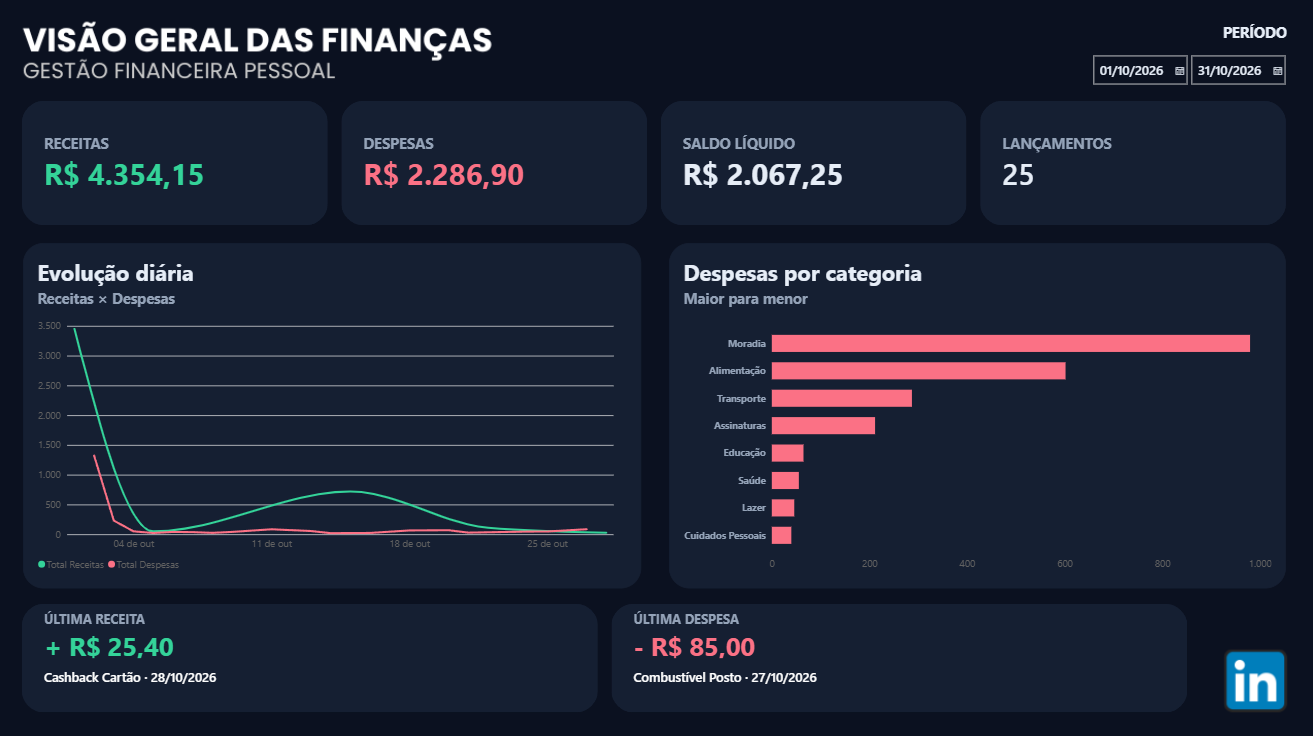

The page's visual inventory and layout, read from the dashboard file:
{"tool":"powerbi","page":{"name":"Visão Geral","canvas":[1920,1080],"ordinal":0},"visuals":[{"type":"cardVisual","fields":{"Data":["_Medidas.Total Receitas","_Medidas.Total Despesas","_Medidas.Saldo","_Medidas.Quantidade Lancamentos"]},"box":[36.7,150,1845,181.7],"z":0},{"type":"slicer","title":"PERÍODO","fields":{"Values":["dCalendario.Date"]},"box":[1591.7,35,290,100],"z":1000},{"type":"lineChart","title":"Evolução diária","fields":{"Category":["dCalendario.Date.Variation.Hierarquia de datas.Ano"],"Y":["_Medidas.Total Receitas","_Medidas.Total Despesas"]},"box":[38,358,902,504],"z":2000},{"type":"actionButton","box":[1790.8,951.5,90.8,90],"z":3000},{"type":"clusteredBarChart","title":"Despesas por categoria","fields":{"Category":["extrato_financeiro.Categoria"],"Y":["_Medidas.Total Despesas"]},"box":[980,358,900,504],"z":4000},{"type":"cardVisual","fields":{"Data":["_Medidas.Ultima Receita Valor","_Medidas.Ultima Despesa Valor"]},"box":[36,884,1700,158],"z":5000}]}

Visuals, with their boxes in screenshot pixels (x1, y1, x2, y2), scaled from the page's 1920x1080 canvas onto the 1313x736 screenshot:
cardVisual - _Medidas.Total Receitas x _Medidas.Total Despesas: x1=25, y1=102, x2=1287, y2=226
"PERÍODO" slicer: x1=1088, y1=24, x2=1287, y2=92
"Evolução diária" lineChart: x1=26, y1=244, x2=643, y2=587
actionButton: x1=1225, y1=648, x2=1287, y2=710
"Despesas por categoria" clusteredBarChart: x1=670, y1=244, x2=1286, y2=587
cardVisual - _Medidas.Ultima Receita Valor x _Medidas.Ultima Despesa Valor: x1=25, y1=602, x2=1187, y2=710
